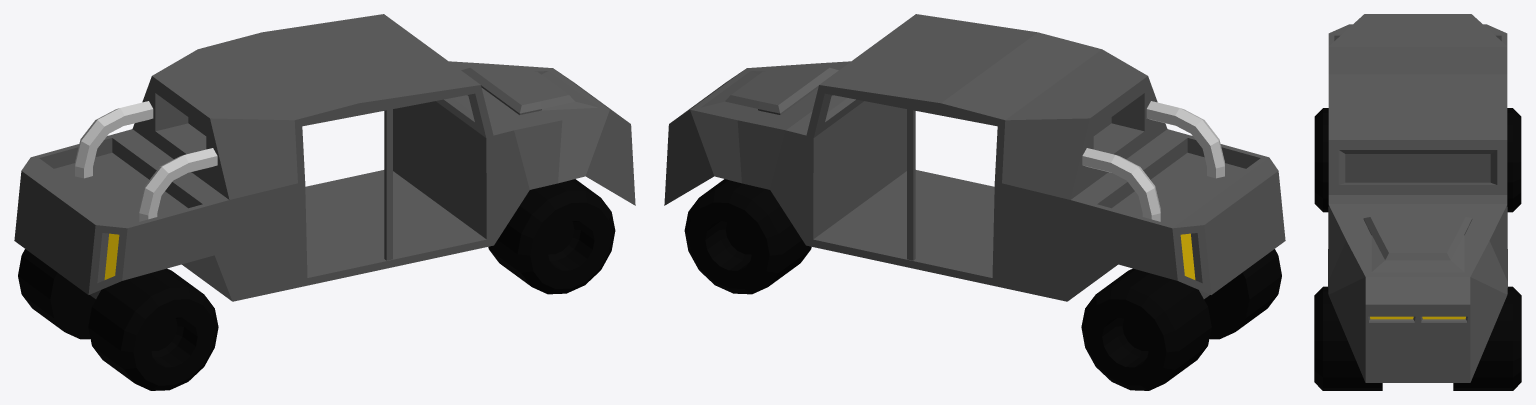
The model's file is JTV Utility Car Vehicle.obj.
The picture shows the model from 3 angles, left to right: view 1: azimuth 30°, elevation 25°; view 2: azimuth 150°, elevation 25°; view 3: azimuth 270°, elevation 25°; orthographic projection. The views are drawn at different scales.
Parts seen in each view (by area): view 1: JTV-Vehicle_Cube; view 2: JTV-Vehicle_Cube; view 3: JTV-Vehicle_Cube.
Boxes of the visible parts, x1=… form: JTV-Vehicle_Cube: x1=14, y1=14, x2=635, y2=390; JTV-Vehicle_Cube: x1=664, y1=14, x2=1285, y2=390; JTV-Vehicle_Cube: x1=1314, y1=14, x2=1521, y2=390.
Bounding box in the file's own units: 12.47 × 5.15 × 4.36.
